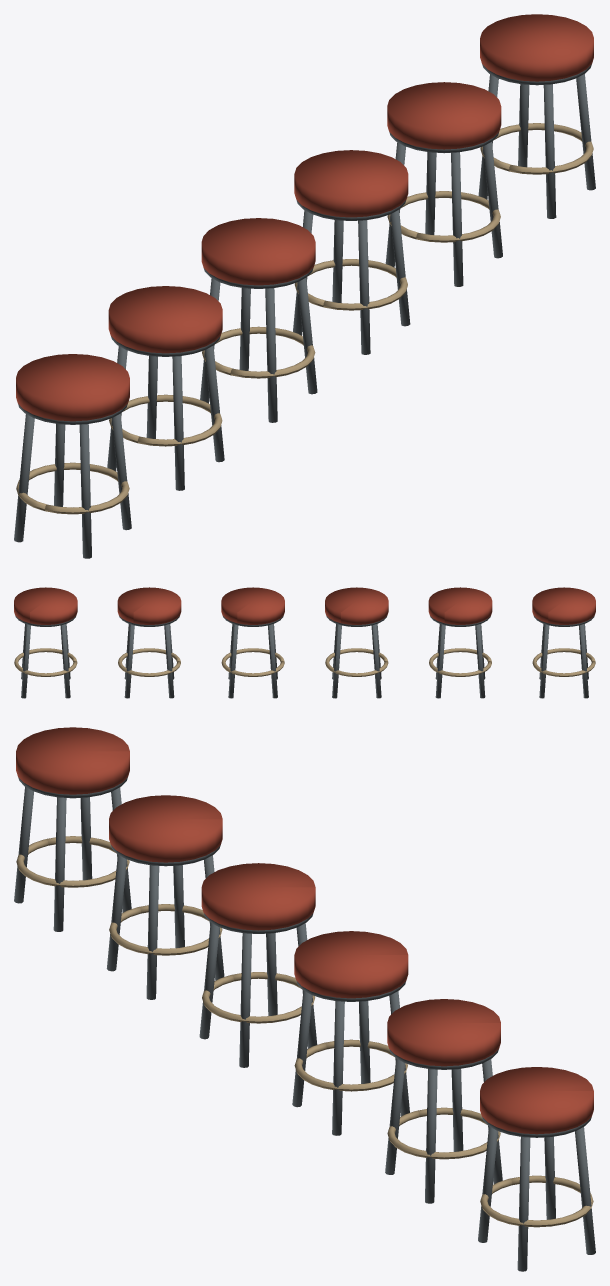
Rendered from yokocho-noodle-stool-set.glb.
3 views of the same model, one above another, from view 1: azimuth 30°, elevation 25°; view 2: azimuth 150°, elevation 25°; view 3: azimuth 270°, elevation 25° (orthographic). The views are drawn at different scales.
Visible parts, largest first — view 1: Shops/S02/Personality/NoodleSeats__Food_Oxblood, Shops/S02/Personality/NoodleSeats__Iron, Shops/S02/Personality/NoodleSeats__Bronze; view 2: Shops/S02/Personality/NoodleSeats__Food_Oxblood, Shops/S02/Personality/NoodleSeats__Iron, Shops/S02/Personality/NoodleSeats__Bronze; view 3: Shops/S02/Personality/NoodleSeats__Food_Oxblood, Shops/S02/Personality/NoodleSeats__Iron, Shops/S02/Personality/NoodleSeats__Bronze.
Part boxes in pixels (x1,y1,x2,y2): Shops/S02/Personality/NoodleSeats__Food_Oxblood: [16, 14, 593, 421]; Shops/S02/Personality/NoodleSeats__Iron: [14, 64, 595, 558]; Shops/S02/Personality/NoodleSeats__Bronze: [16, 123, 593, 514]; Shops/S02/Personality/NoodleSeats__Food_Oxblood: [14, 587, 595, 624]; Shops/S02/Personality/NoodleSeats__Iron: [15, 616, 594, 698]; Shops/S02/Personality/NoodleSeats__Bronze: [14, 648, 595, 676]; Shops/S02/Personality/NoodleSeats__Food_Oxblood: [16, 727, 593, 1134]; Shops/S02/Personality/NoodleSeats__Iron: [14, 777, 595, 1271]; Shops/S02/Personality/NoodleSeats__Bronze: [16, 836, 593, 1227].
Size of the model in its own units: 3.48 by 0.6516 by 2.2.
